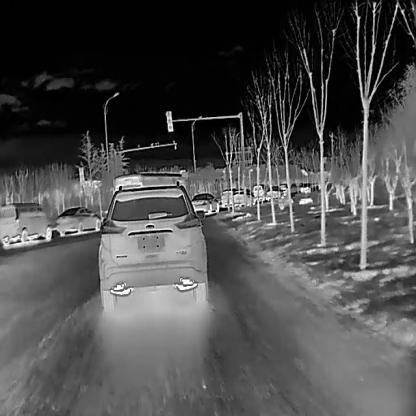car: (97, 180, 207, 309), (0, 201, 51, 245), (56, 205, 100, 235), (188, 192, 218, 215), (231, 188, 255, 206), (221, 188, 238, 207), (252, 183, 271, 199), (265, 185, 285, 199), (278, 182, 288, 197), (299, 185, 311, 193)
